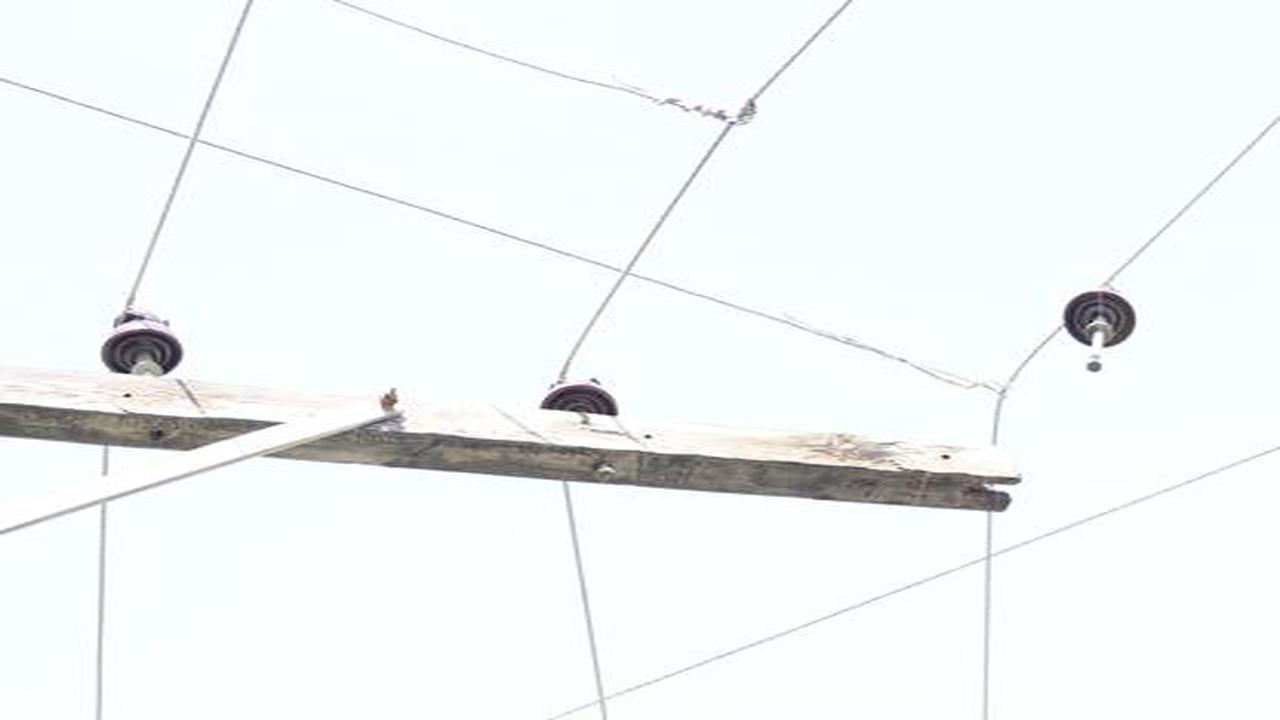insulator_pin: (96, 307, 185, 378), (1064, 281, 1135, 346), (532, 376, 619, 425)
